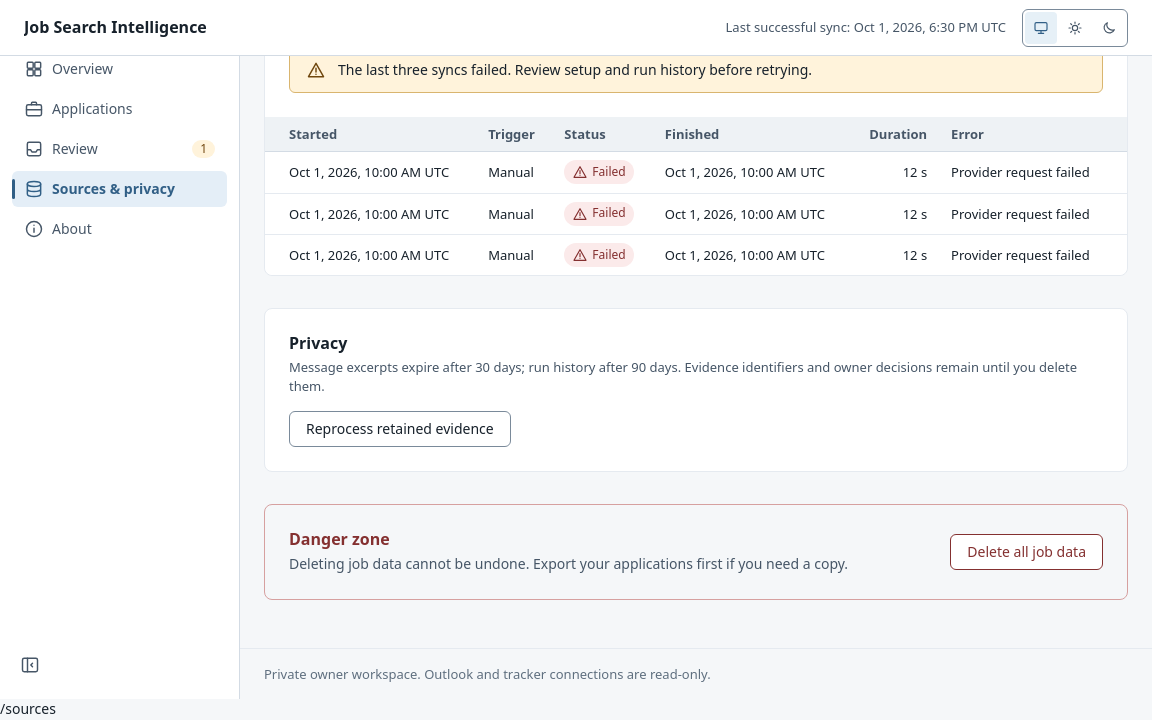
Test: delete all job data › keeps the dialog open and says nothing was deleted when the request fails
(page scrolled)
Click the button "Delete all job data" at coordinates (1027, 552), box [950,534,1103,570]
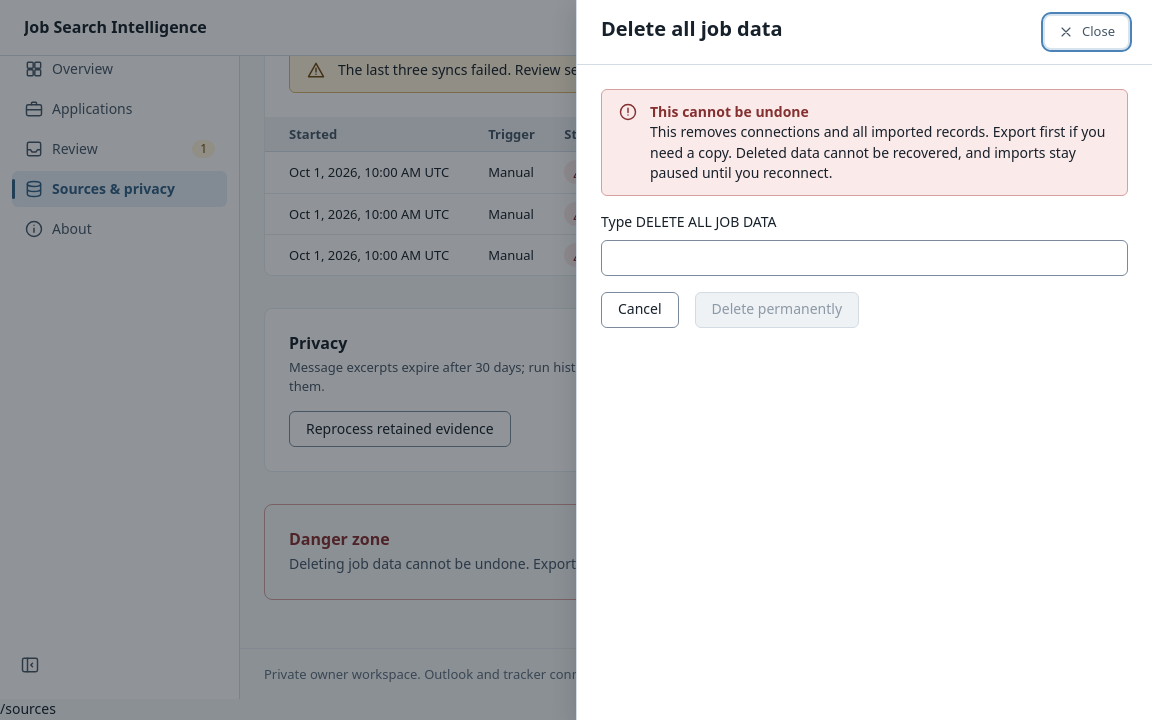
Type "DELETE ALL JOB DATA" into the field labelled "Type DELETE ALL JOB DATA" at coordinates (864, 258), box [601,240,1128,276]
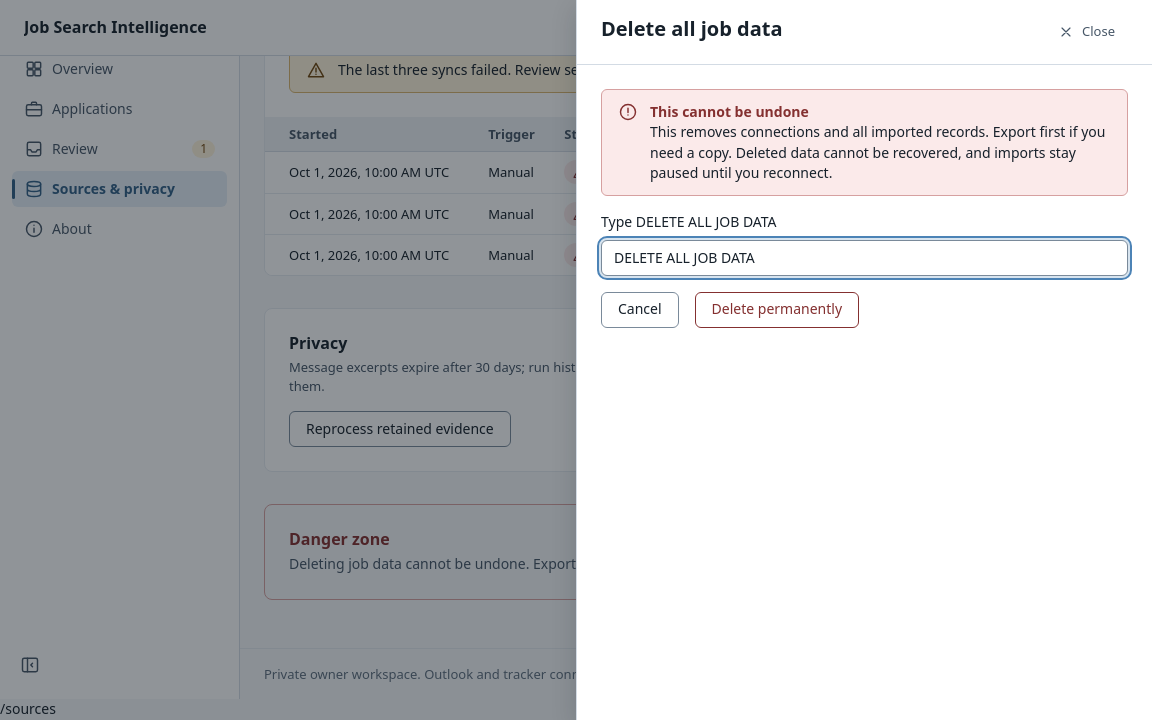
Click the button "Delete permanently" at coordinates (777, 310), box [695,292,859,328]
(page scrolled)
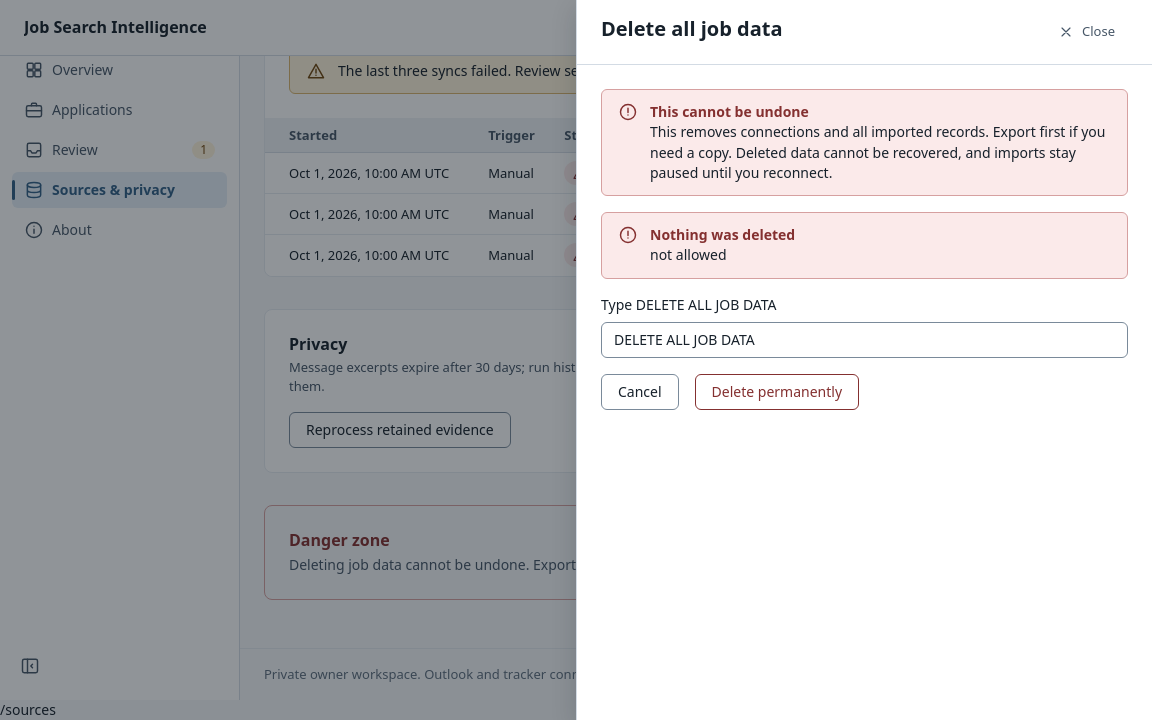
Now the dialog "Delete all job data" is shown, box [576,0,1151,719]
Now the text "Nothing was deleted" is shown, box [650,225,795,246]
Now the text "not allowed" is shown, box [650,246,727,264]
